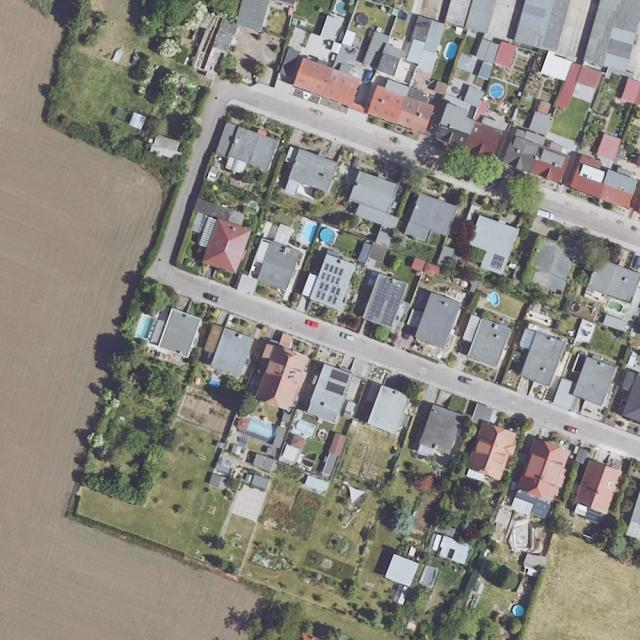PV: (367, 277, 407, 327), (315, 263, 344, 305)
